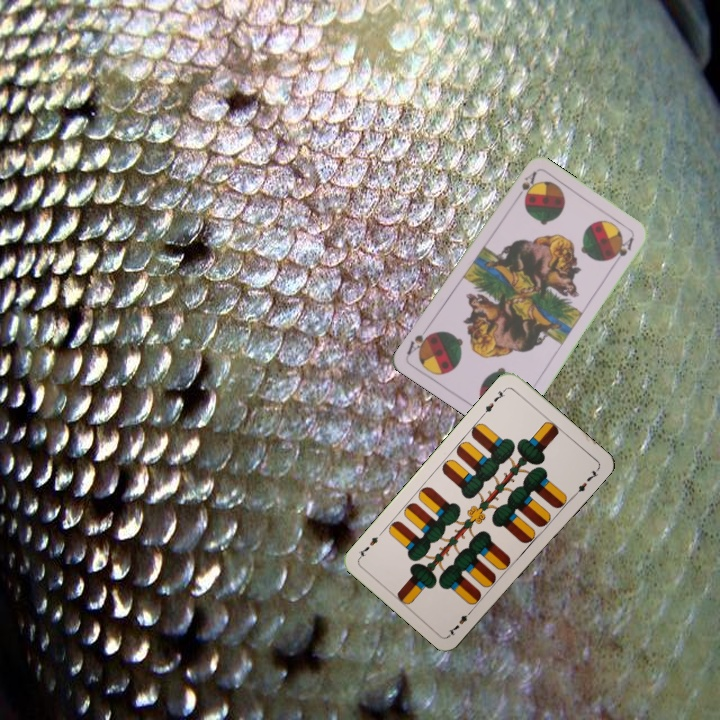E7: (444, 604, 476, 638), (478, 384, 509, 418)
SA: (511, 168, 539, 203)
